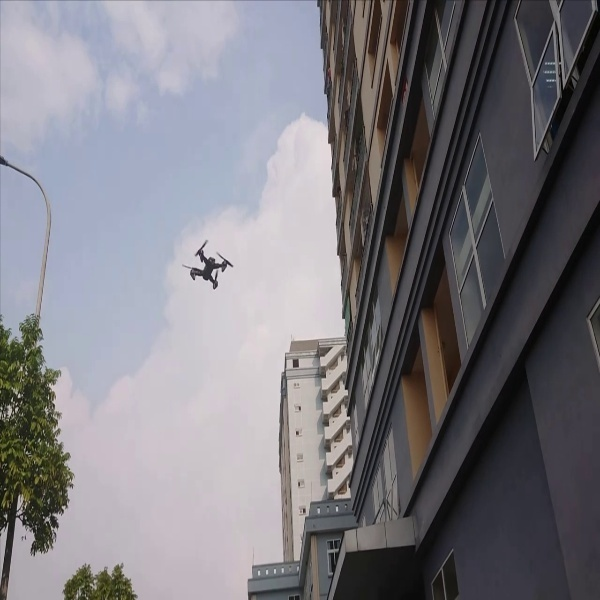drone: (179, 236, 237, 297)
